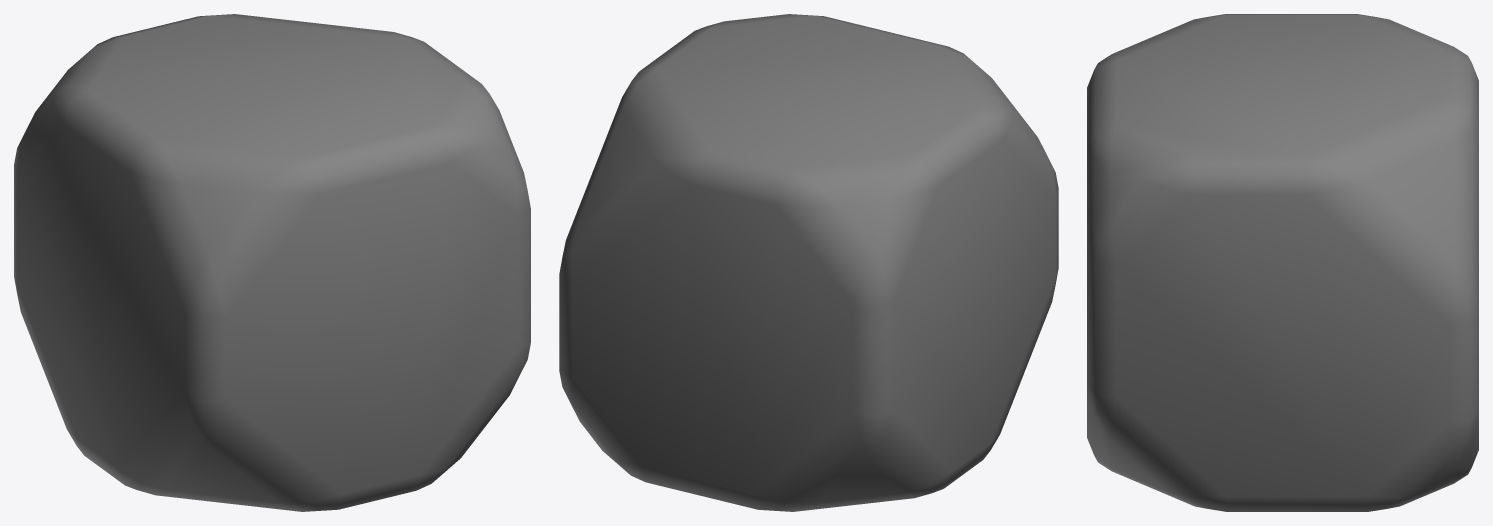
The model's file is stone4.fbx.
3 views of the same model, side by side, from view 1: azimuth 30°, elevation 25°; view 2: azimuth 150°, elevation 25°; view 3: azimuth 270°, elevation 25° (orthographic). The views are drawn at different scales.
Visible parts, largest first — view 1: Cube.036; view 2: Cube.036; view 3: Cube.036.
Boxes of the visible parts, <box> form: Cube.036: <box>14,14,530,511</box>; Cube.036: <box>559,14,1058,511</box>; Cube.036: <box>1087,14,1478,511</box>.
Size of the model in its own units: 0.514 by 0.514 by 0.514.
